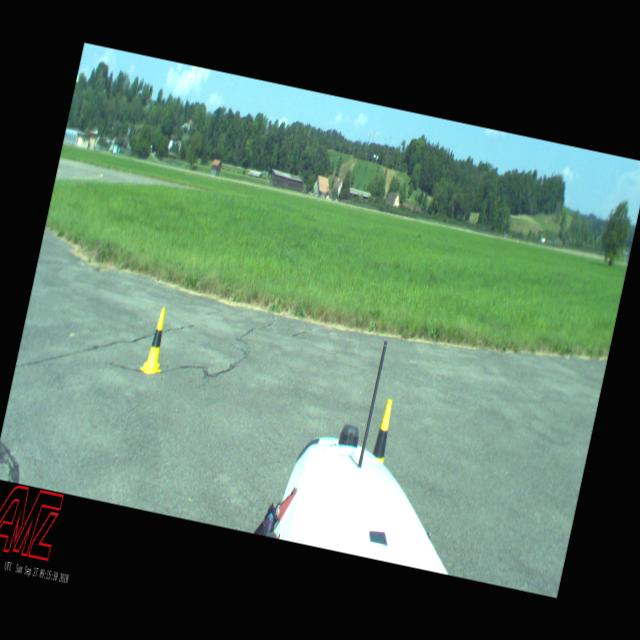yellow_cone: (138, 306, 174, 376), (371, 398, 396, 462)
